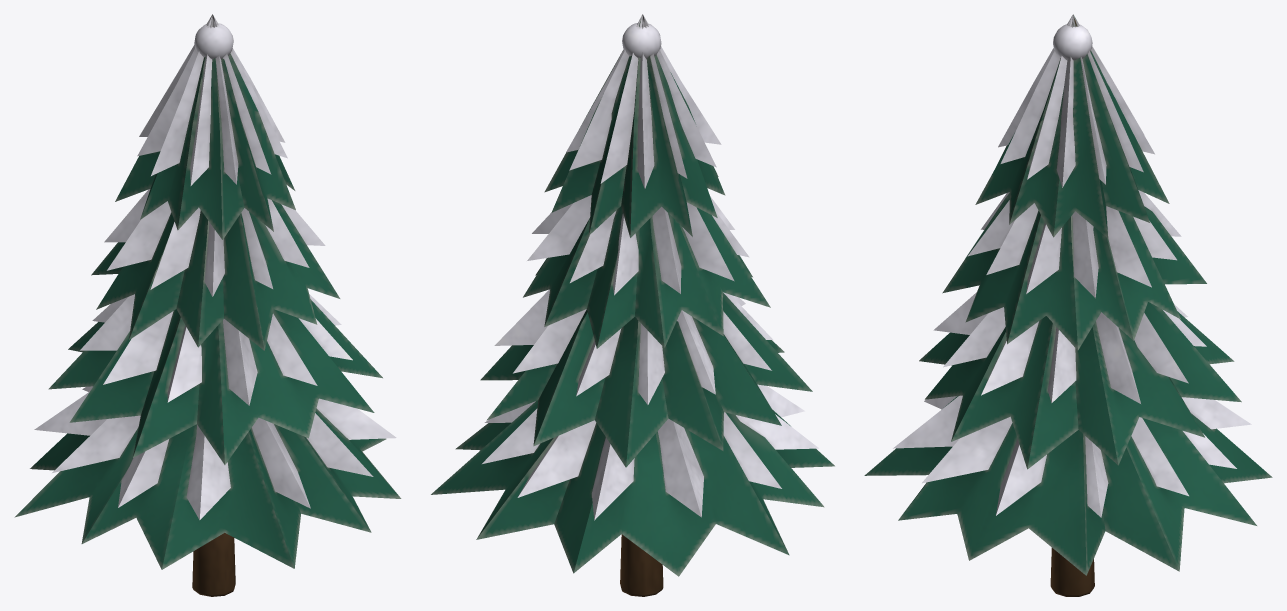
File: sf_pine_tree.glb
3 renders of one model, left to right at view 1: azimuth 30°, elevation 25°; view 2: azimuth 150°, elevation 25°; view 3: azimuth 270°, elevation 25°, orthographic.
Visible parts, largest first — view 1: sf_pine_tree; view 2: sf_pine_tree; view 3: sf_pine_tree.
Part boxes in pixels (box(x1,y1,x2,y2)): sf_pine_tree: box(14, 14, 401, 596); sf_pine_tree: box(431, 14, 834, 596); sf_pine_tree: box(864, 14, 1272, 596).
Size of the model in its own units: 5.12 by 7.97 by 5.13.
Materials: 3 (3 with a texture image).
